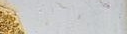Corrosion: (1, 5, 26, 34)
